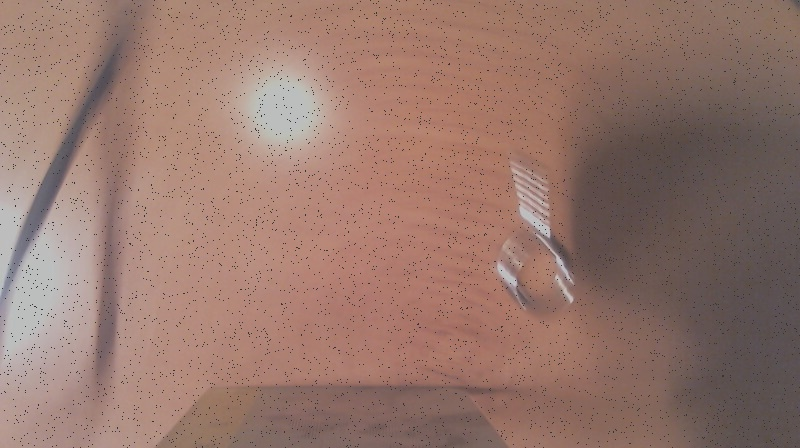O001: (488, 152, 590, 324)
